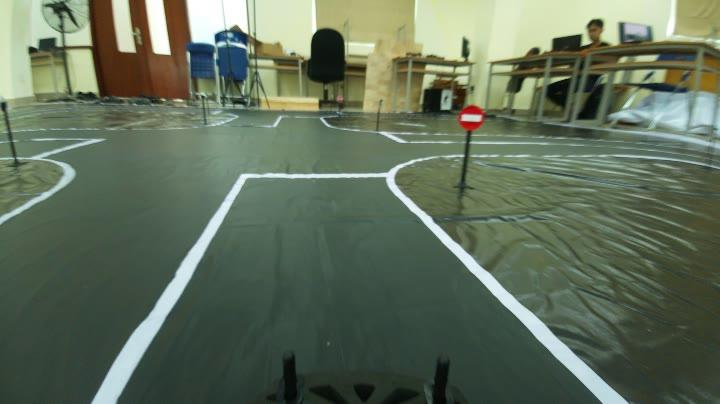no_entry: (454, 100, 486, 133)
